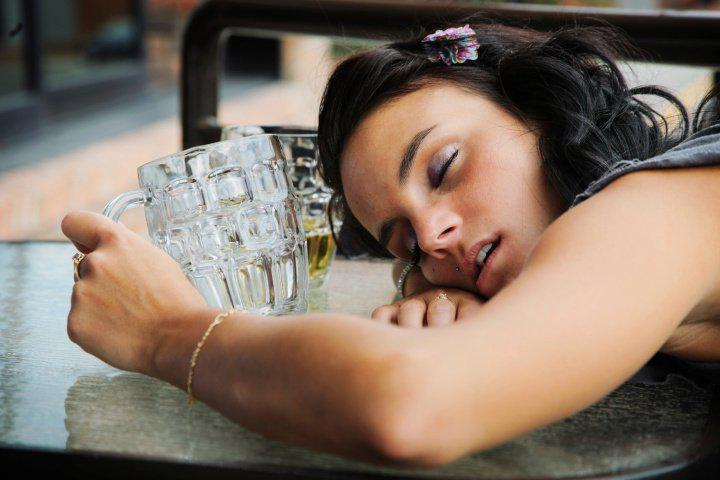Drunk: (333, 99, 528, 288)
